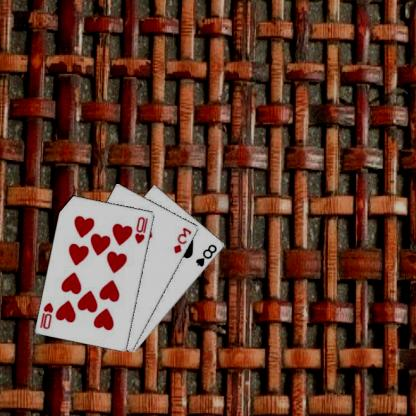10H: (39, 300, 57, 330), (134, 214, 151, 245)
3D: (173, 224, 195, 255)
8S: (195, 242, 220, 268)
